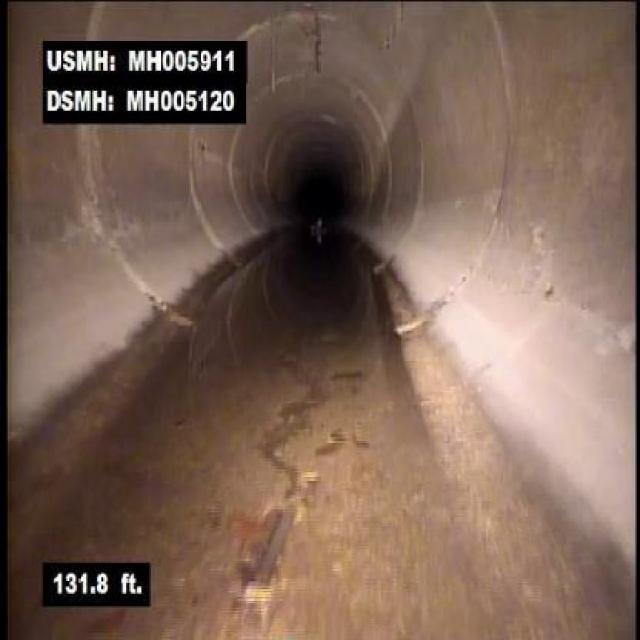Crack: (222, 357, 346, 589), (489, 217, 603, 320)
